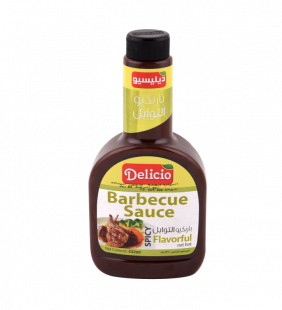DELICIO: (83, 23, 213, 285)
